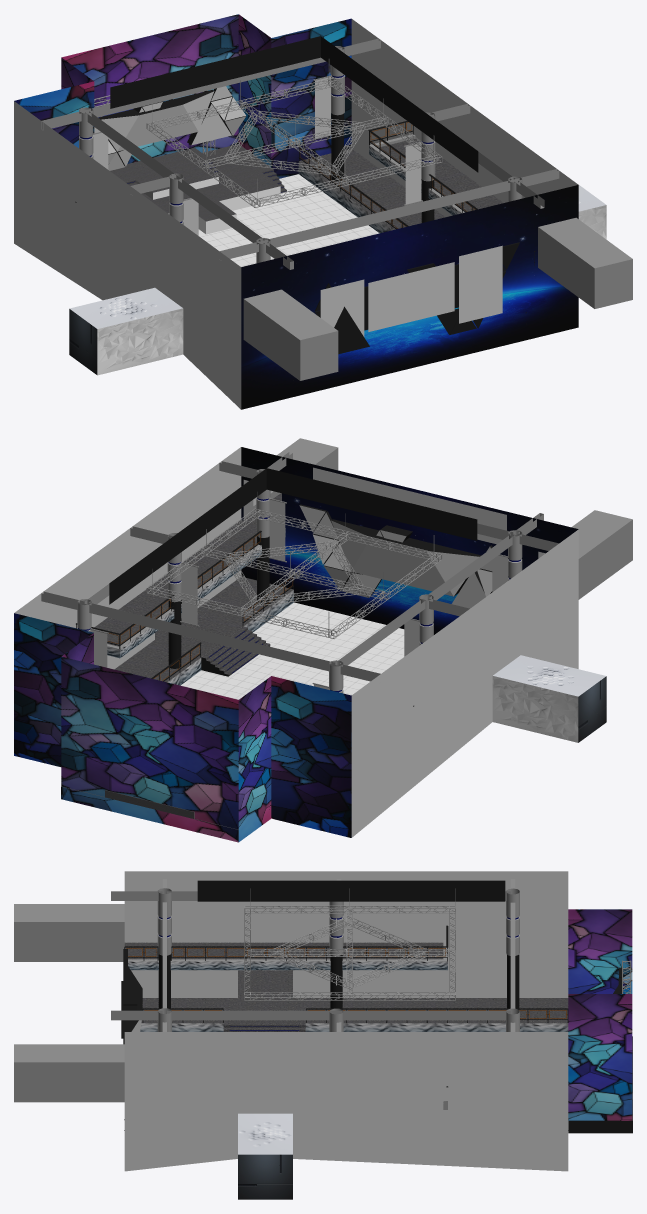
The model's file is Night Club.FBX.
3 views of the same model, one above another, from view 1: azimuth 30°, elevation 25°; view 2: azimuth 150°, elevation 25°; view 3: azimuth 270°, elevation 25° (orthographic). The views are drawn at different scales.
Visible parts, largest first — view 1: Object081, Object061, Object080, Display, Display Box001, Display Box, Display_2; view 2: Object081, Object061, Display001, Display Box001; view 3: Object081, Object061, Display Box001.
Boxes of the visible parts, x1,y1,x2,y2 form: Object081: [14, 14, 632, 409]; Object061: [94, 59, 442, 207]; Object080: [320, 245, 502, 336]; Display: [94, 86, 245, 170]; Display Box001: [313, 242, 519, 354]; Display Box: [98, 88, 245, 166]; Display_2: [168, 186, 280, 213]; Object081: [14, 438, 632, 842]; Object061: [146, 492, 442, 638]; Display001: [299, 505, 492, 608]; Display Box001: [300, 504, 492, 597]; Object081: [14, 871, 632, 1199]; Object061: [244, 888, 631, 1000]; Display Box001: [121, 949, 142, 1044].
Size of the model in its own units: 32.77 by 35.32 by 10.11.
